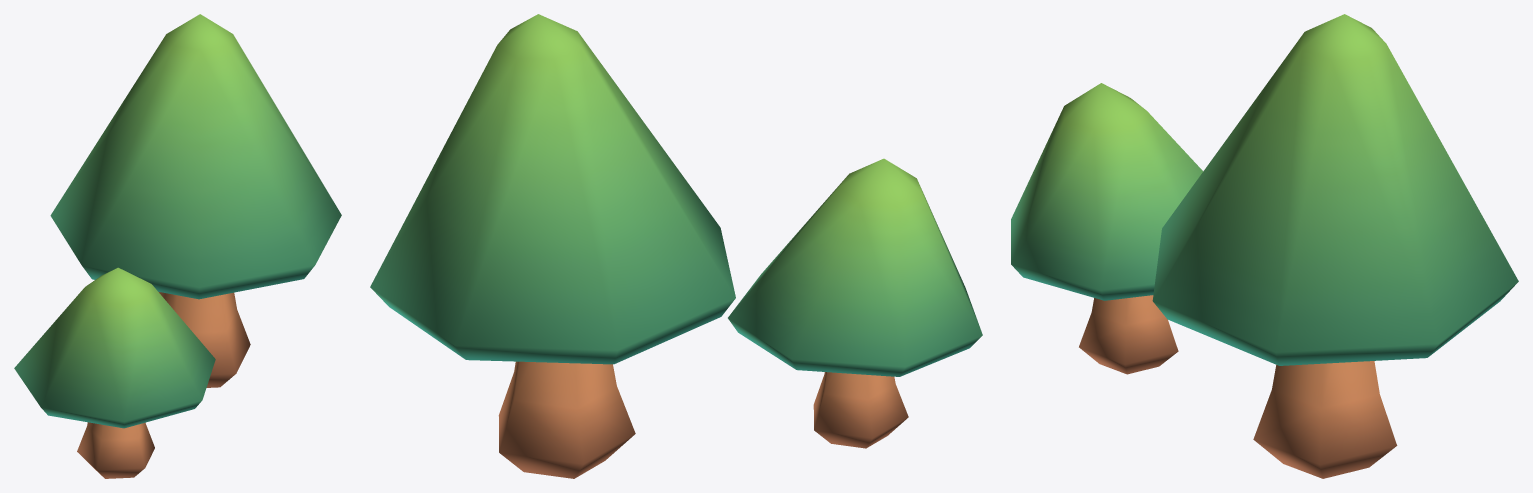
File: mushroom_cone_2.glb
3 views of the same model, side by side, from view 1: azimuth 30°, elevation 25°; view 2: azimuth 150°, elevation 25°; view 3: azimuth 270°, elevation 25° (orthographic). The views are drawn at different scales.
Parts seen in each view (by area): view 1: mushroom_cone_2; view 2: mushroom_cone_2; view 3: mushroom_cone_2.
Boxes of the visible parts, x1,y1,x2,y2 form: mushroom_cone_2: (14,14,341,478); mushroom_cone_2: (370,14,982,478); mushroom_cone_2: (1011,14,1518,478).
Bounding box in the file's own units: 7.16 × 6.56 × 6.68.
Materials: 1 (1 with a texture image).
